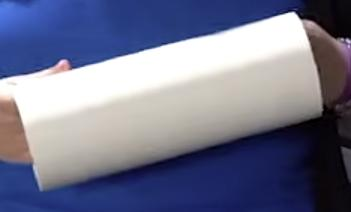coral: (11, 12, 322, 192)
